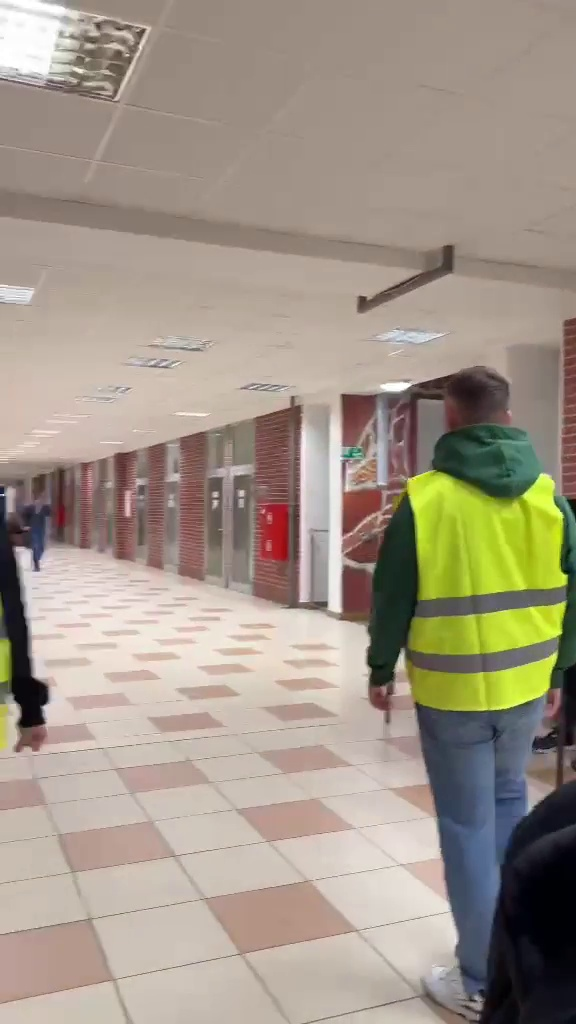vest: (369, 364, 570, 1016)
